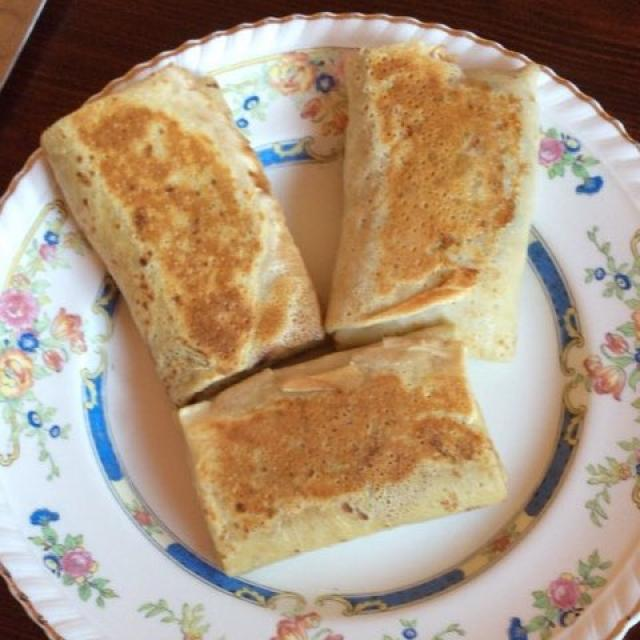crepe-plain: (37, 37, 531, 576)
